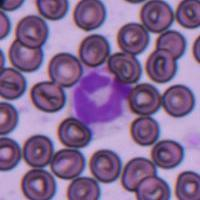N: (69, 66, 132, 127)
